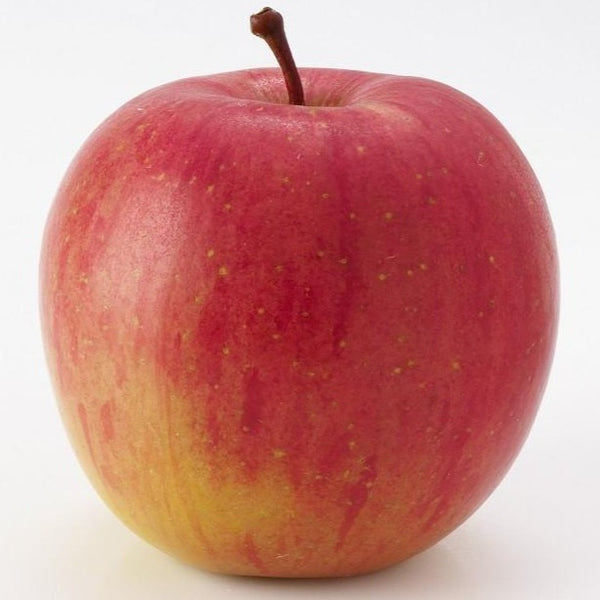apple: (36, 3, 563, 582)
